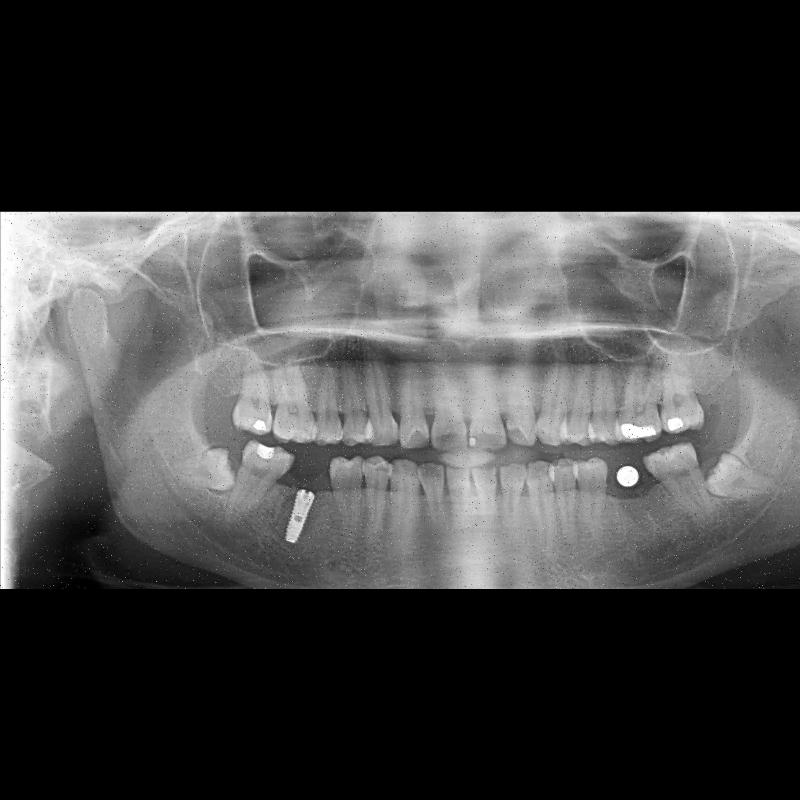Dentium: (285, 486, 315, 546)
